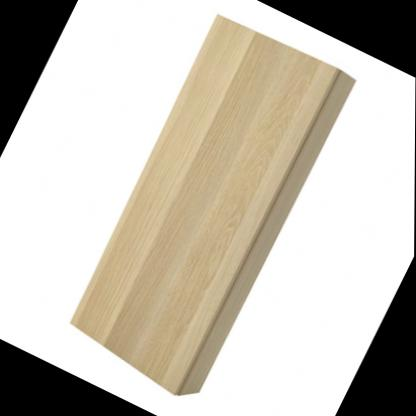Cabinet: (52, 8, 362, 412)
